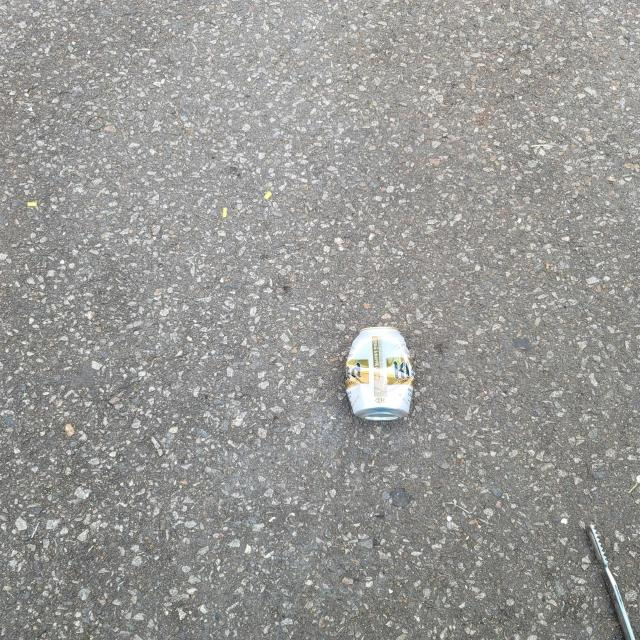can: (346, 327, 415, 422)
